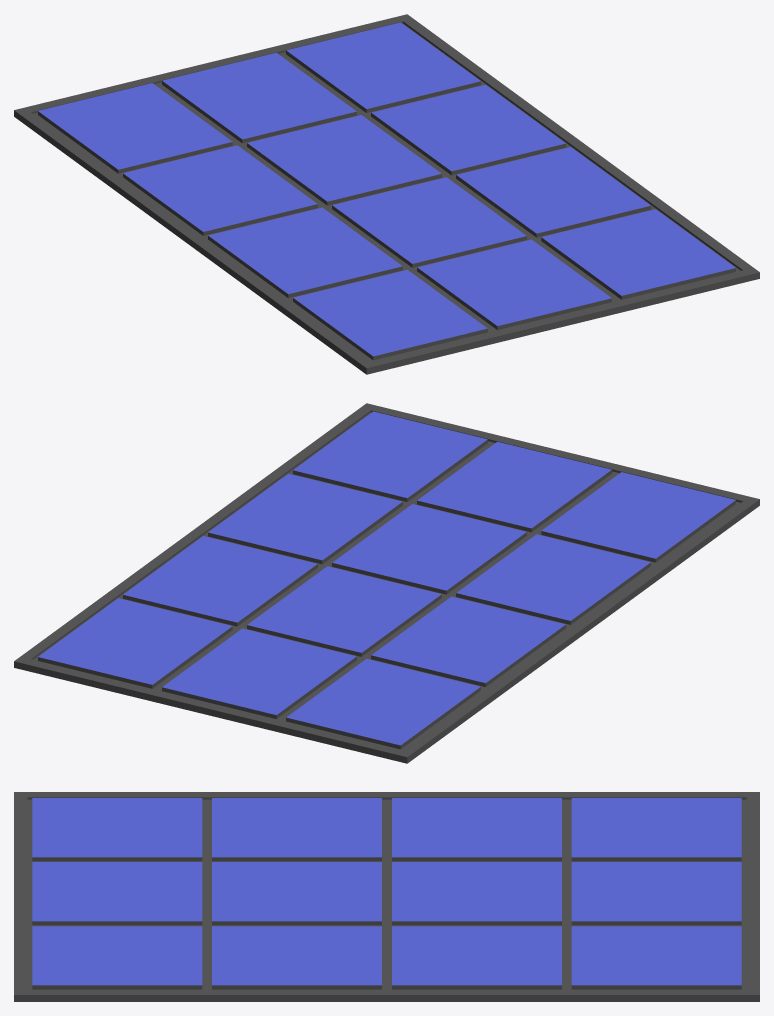
Rendered from solar (2).fbx.
3 views of the same model, one above another, from view 1: azimuth 30°, elevation 25°; view 2: azimuth 150°, elevation 25°; view 3: azimuth 270°, elevation 25° (orthographic). The views are drawn at different scales.
Parts seen in each view (by area): view 1: Cube; view 2: Cube; view 3: Cube.
Boxes of the visible parts, x1=… form: Cube: x1=14, y1=14, x2=759, y2=374; Cube: x1=14, y1=403, x2=759, y2=763; Cube: x1=14, y1=792, x2=759, y2=1001.
Size of the model in its own units: 775 by 15.57 by 1203.
